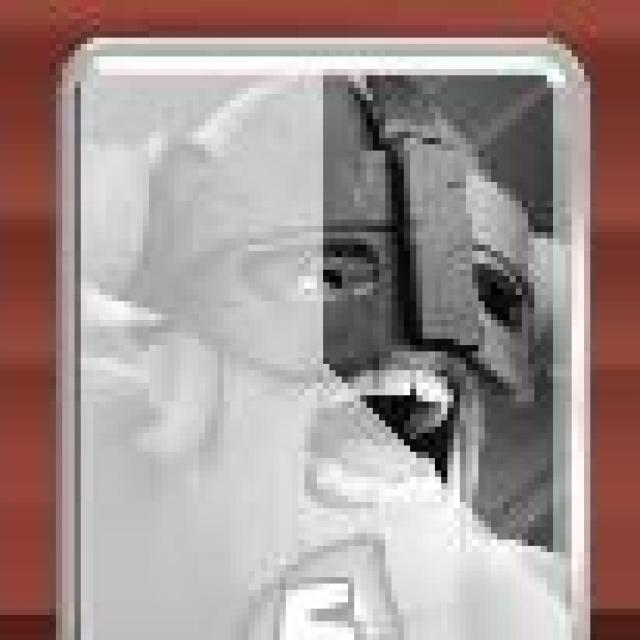Elite_Barbarians: (66, 38, 594, 640)
